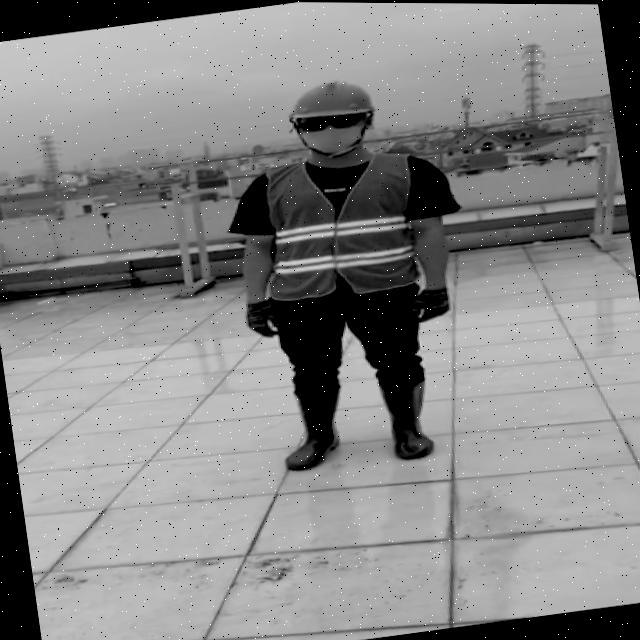goggles_on: (296, 110, 374, 134)
